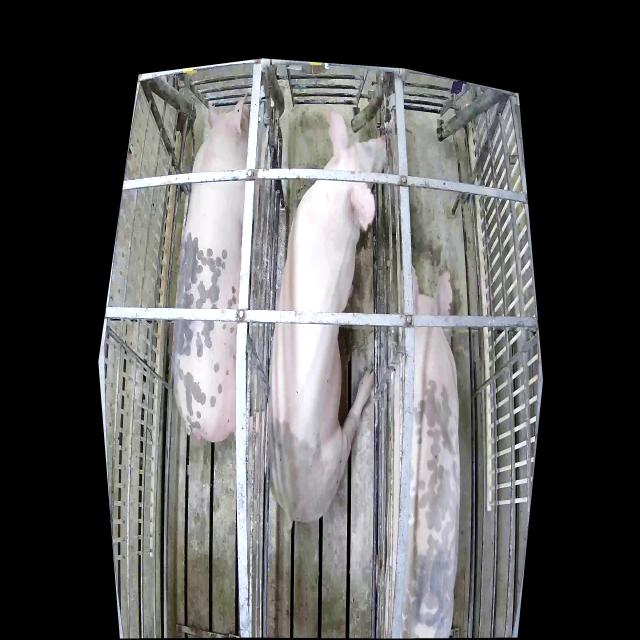pig: (269, 110, 392, 521), (385, 263, 460, 636), (174, 91, 250, 441)
